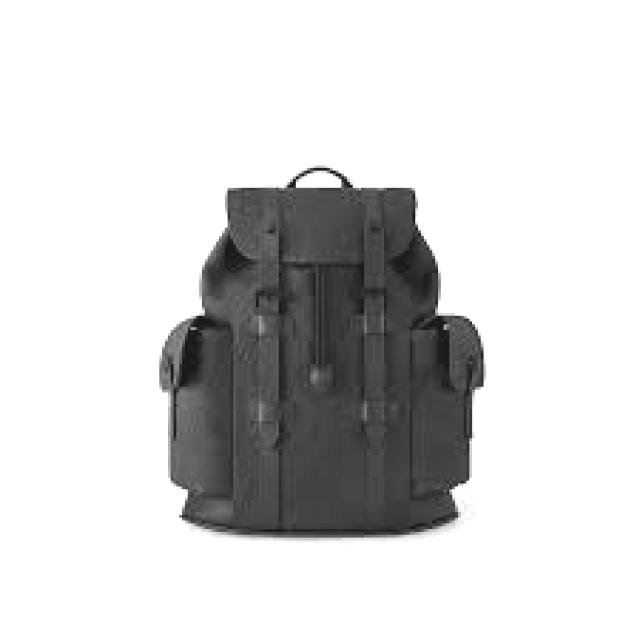backpack: (158, 166, 485, 536)
